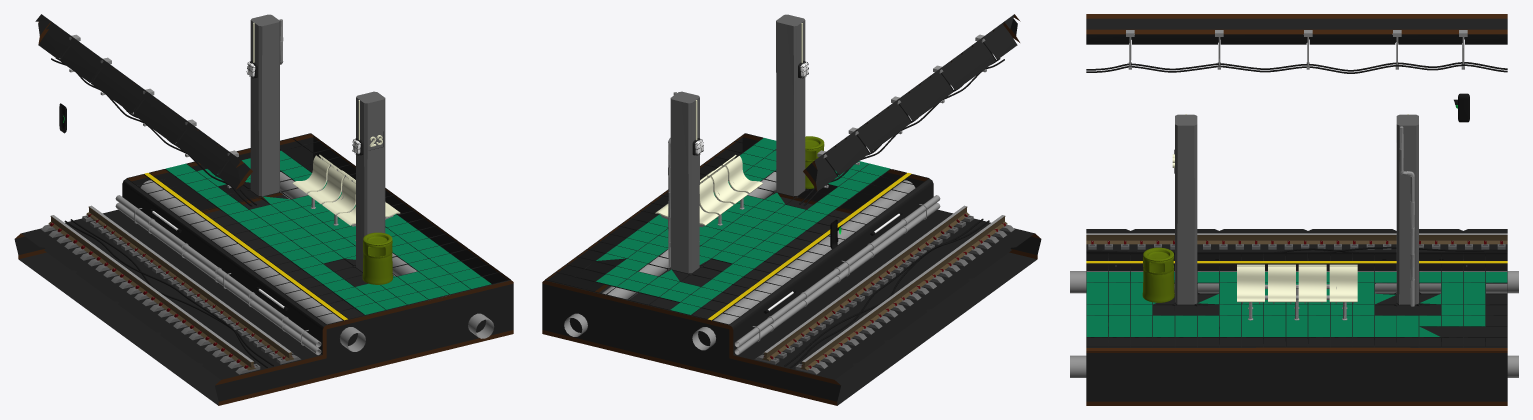
File: subway_station.glb
3 views of the same model, side by side, from view 1: azimuth 30°, elevation 25°; view 2: azimuth 150°, elevation 25°; view 3: azimuth 270°, elevation 25° (orthographic). The views are drawn at different scales.
Parts seen in each view (by area): view 1: body; view 2: body; view 3: body.
Part boxes in pixels (x1,y1,x2,y2): body: (14, 14, 513, 405); body: (542, 14, 1041, 405); body: (1070, 14, 1518, 405).
Bounding box in the file's own units: 8.61 × 6.61 × 10.65.
